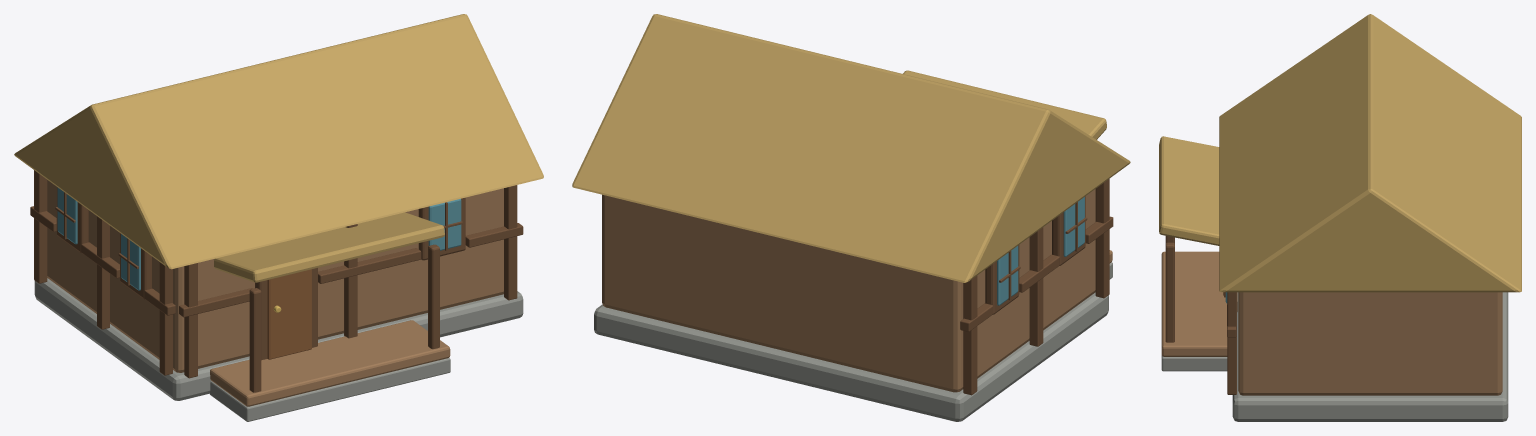
File: temperate-farmstead-0.glb
3 views of the same model, side by side, from view 1: azimuth 30°, elevation 25°; view 2: azimuth 150°, elevation 25°; view 3: azimuth 270°, elevation 25° (orthographic). The views are drawn at different scales.
Parts seen in each view (by area): view 1: Golden thatch, Aged oak, Dark beams, Foundation stone, Door oak, Blue glass; view 2: Golden thatch, Aged oak, Foundation stone, Dark beams, Blue glass; view 3: Golden thatch, Aged oak, Foundation stone, Dark beams.
Part boxes in pixels (left/top/right/bottom): Golden thatch: left=14, top=14, right=543, bottom=282; Aged oak: left=47, top=180, right=503, bottom=406; Dark beams: left=30, top=170, right=523, bottom=392; Foundation stone: left=34, top=278, right=523, bottom=421; Door oak: left=267, top=269, right=311, bottom=359; Blue glass: left=57, top=187, right=461, bottom=290; Golden thatch: left=572, top=14, right=1130, bottom=282; Aged oak: left=602, top=189, right=1112, bottom=392; Foundation stone: left=594, top=262, right=1112, bottom=421; Dark beams: left=960, top=179, right=1113, bottom=395; Blue glass: left=997, top=197, right=1084, bottom=305; Golden thatch: left=1159, top=14, right=1521, bottom=292; Aged oak: left=1161, top=251, right=1502, bottom=395; Foundation stone: left=1161, top=292, right=1508, bottom=421; Dark beams: left=1165, top=236, right=1237, bottom=394.
Bounding box in the file's own units: 4.44 × 2.81 × 3.84.
